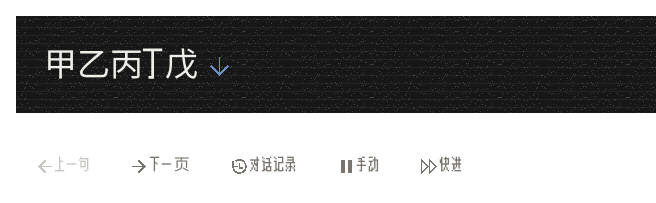
Test: dialogue reading controls › starts a new scene from its first page instead of inheriting the previous page number
Click the button "下一页".
click(157, 165)  # box [111,144,203,186]
Wait 160 ms
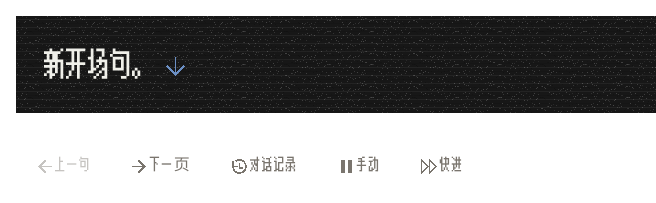
Result: the text "新开场句。" is shown at [44,48,189,82]
